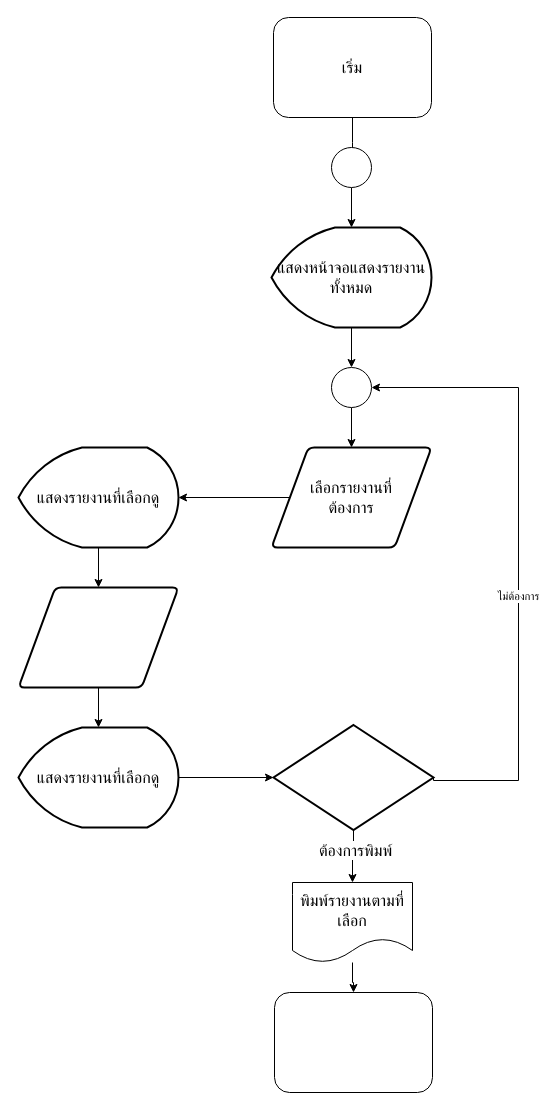
Some shapes in this 556 by 1110 pixel diagram are drawn without their labels. The shapes that lost their labels are listed below. From the top down, each one's centre as x and y in pixels, then its label:
the point at 98,637: เลือกช่วงเวลา / รายการ ที่ต้องการ
the point at 353,777: ต้องการพิมพ์รายงาน หรือไม่
the point at 353,1042: จบการทำงาน
